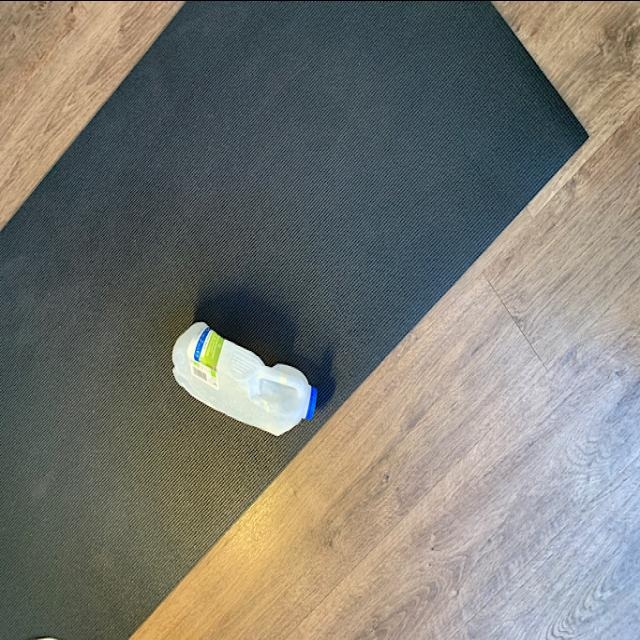HDPEM: (168, 311, 320, 439)
